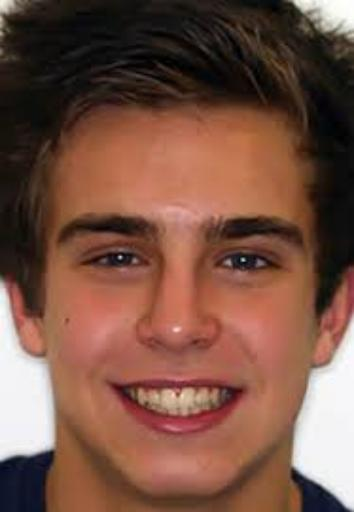left_eye: (213, 251, 283, 283)
left_lip_corner: (230, 376, 258, 403)
right_eye: (79, 250, 152, 279)
right_lip_corner: (101, 373, 126, 399)
